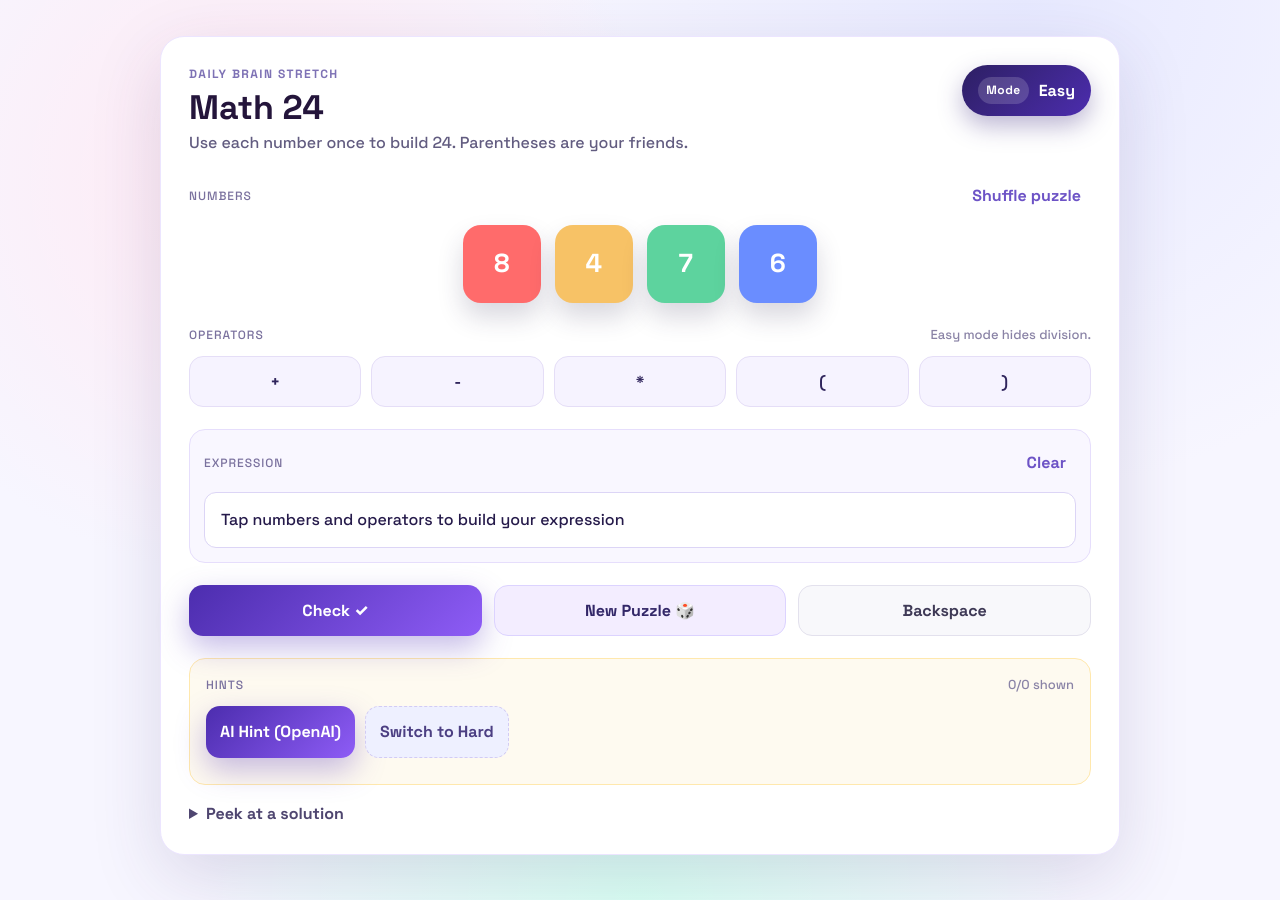
Test case: Math24Game › Mode Toggle › toggles between easy and hard mode
Click the button "Mode Easy" at (1027, 91), box [962, 65, 1091, 116]
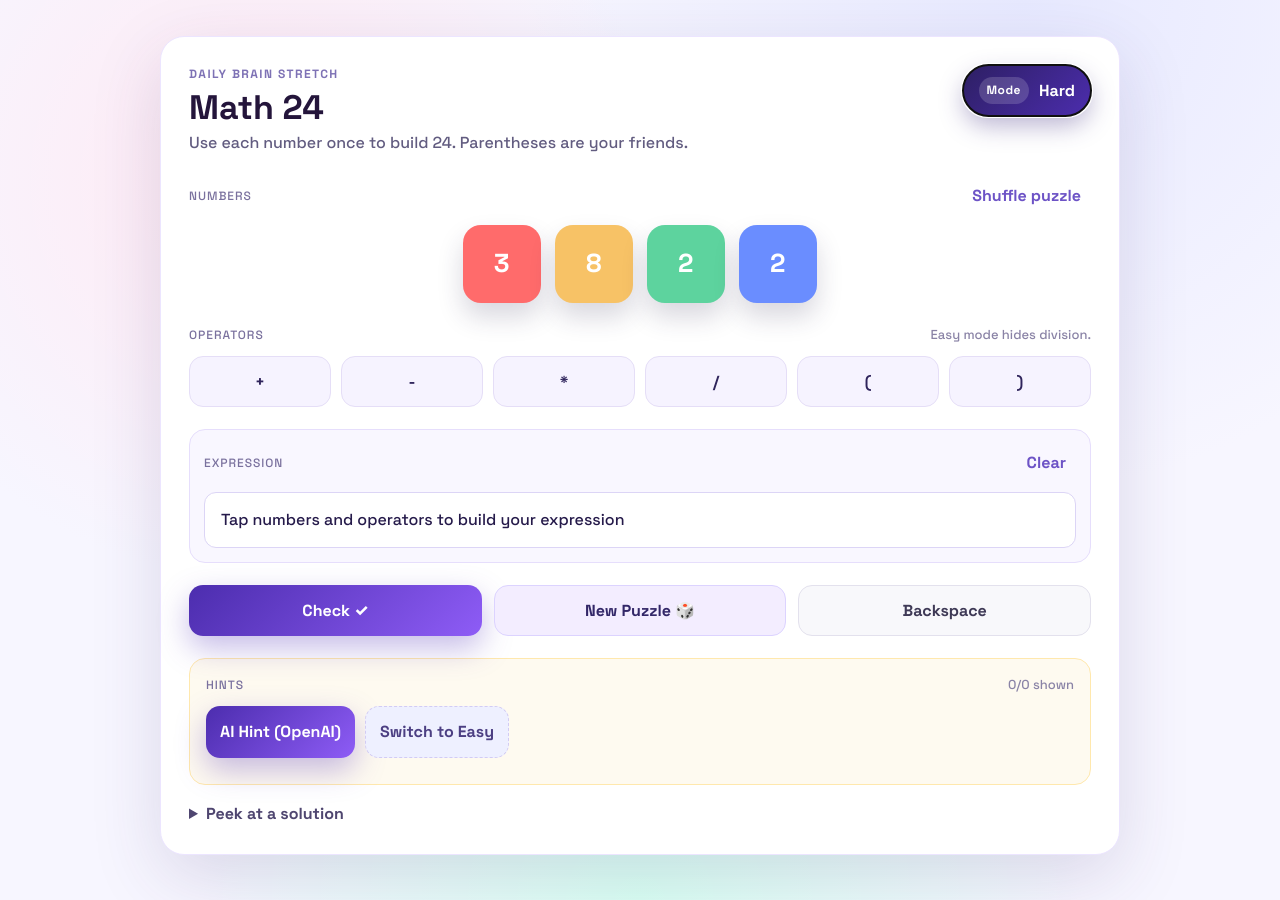
Result: the text "Hard" is shown at [1039, 78, 1075, 103]
